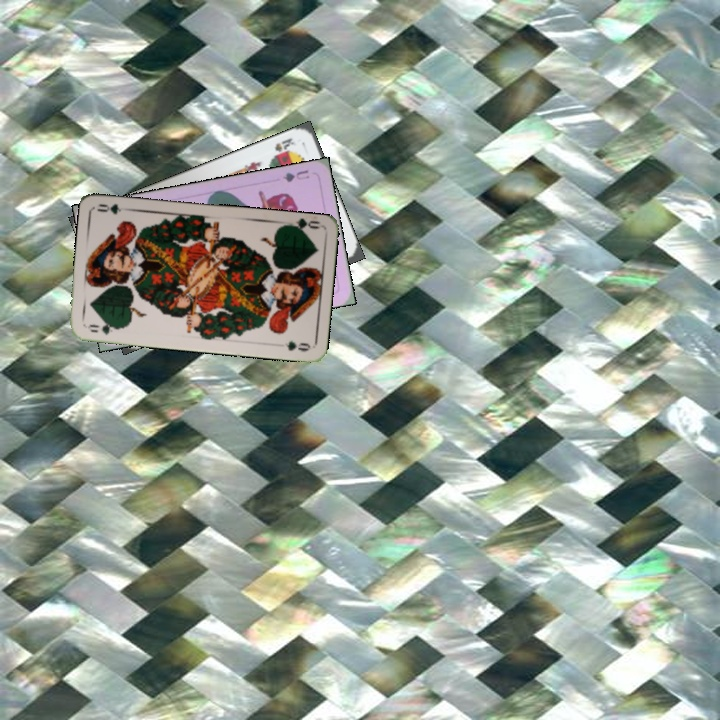GO: (282, 215, 322, 236), (83, 318, 123, 337)
GU: (279, 166, 312, 185)
SK: (271, 134, 297, 155)
